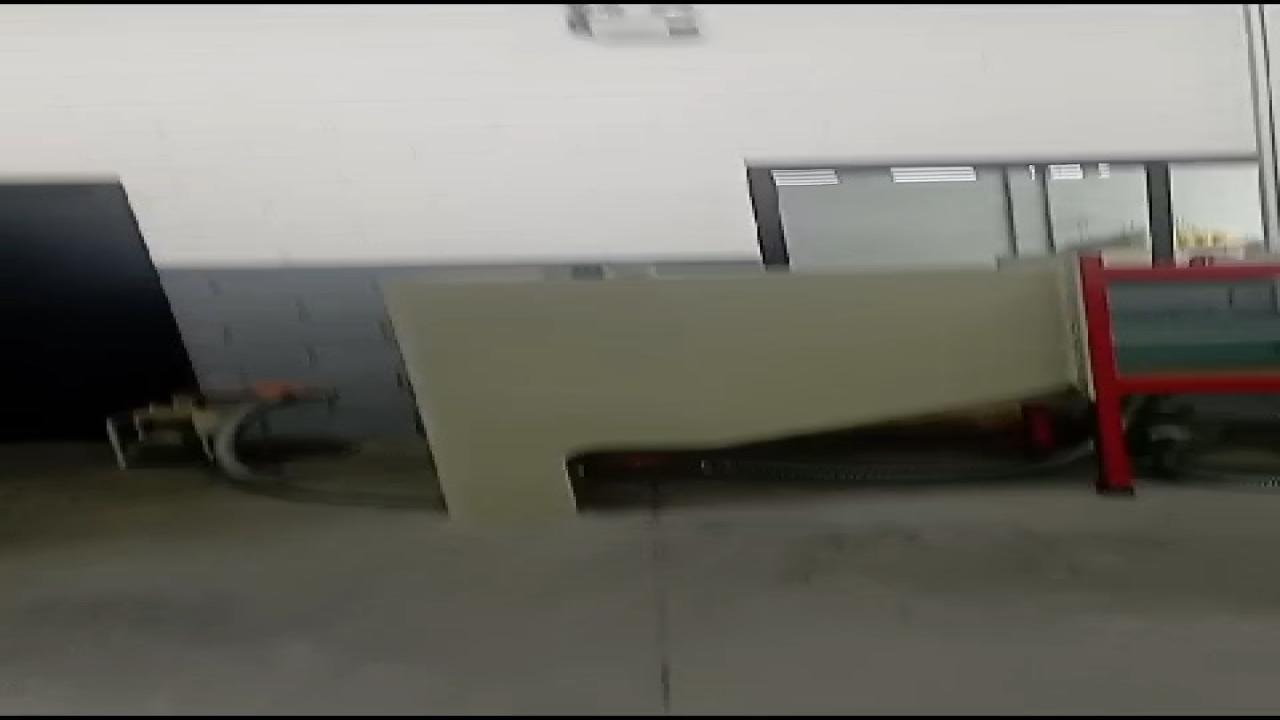Cube: (571, 264, 605, 280)
